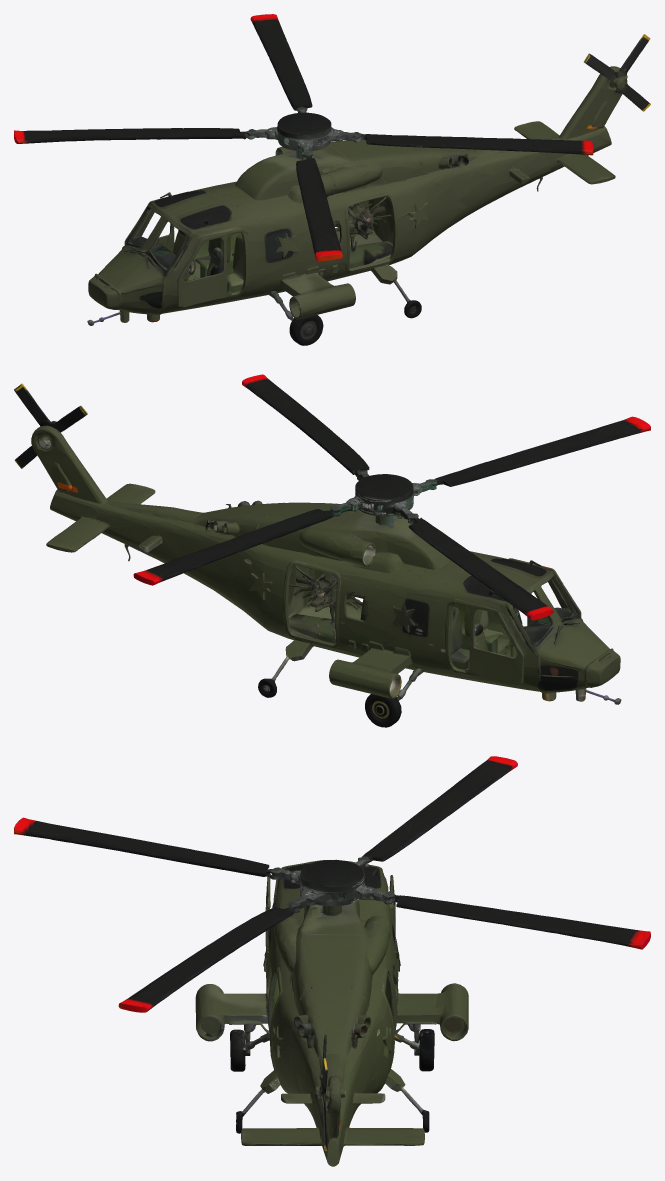
3 renders of one model, top to bottom at view 1: azimuth 30°, elevation 25°; view 2: azimuth 150°, elevation 25°; view 3: azimuth 270°, elevation 25°, orthographic. The views are drawn at different scales.
Visible parts, largest first — view 1: output_unwrapped; view 2: output_unwrapped; view 3: output_unwrapped.
Boxes of the visible parts, x1,y1,x2,y2 form: output_unwrapped: (14,14,650,345); output_unwrapped: (14,374,650,727); output_unwrapped: (14,756,650,1166).
Bounding box in the file's own units: 1.9 × 0.6181 × 1.55.
Materials: 1 (1 with a texture image).
